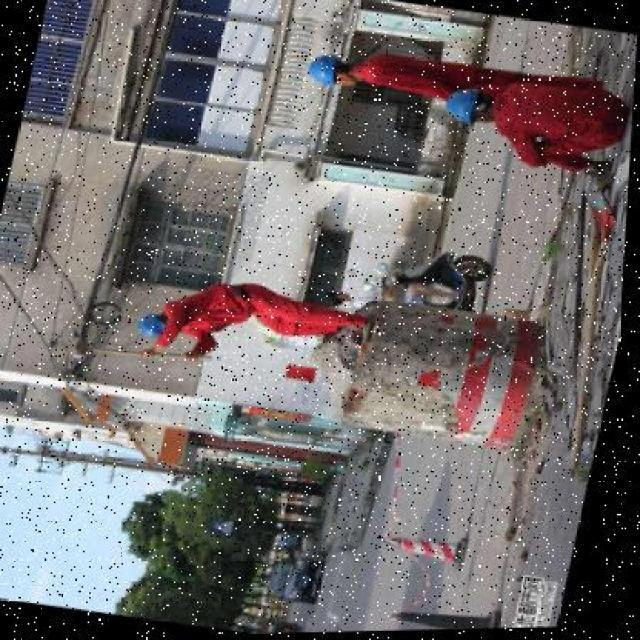helmet: (442, 83, 487, 129), (300, 51, 344, 85), (135, 306, 173, 336)
